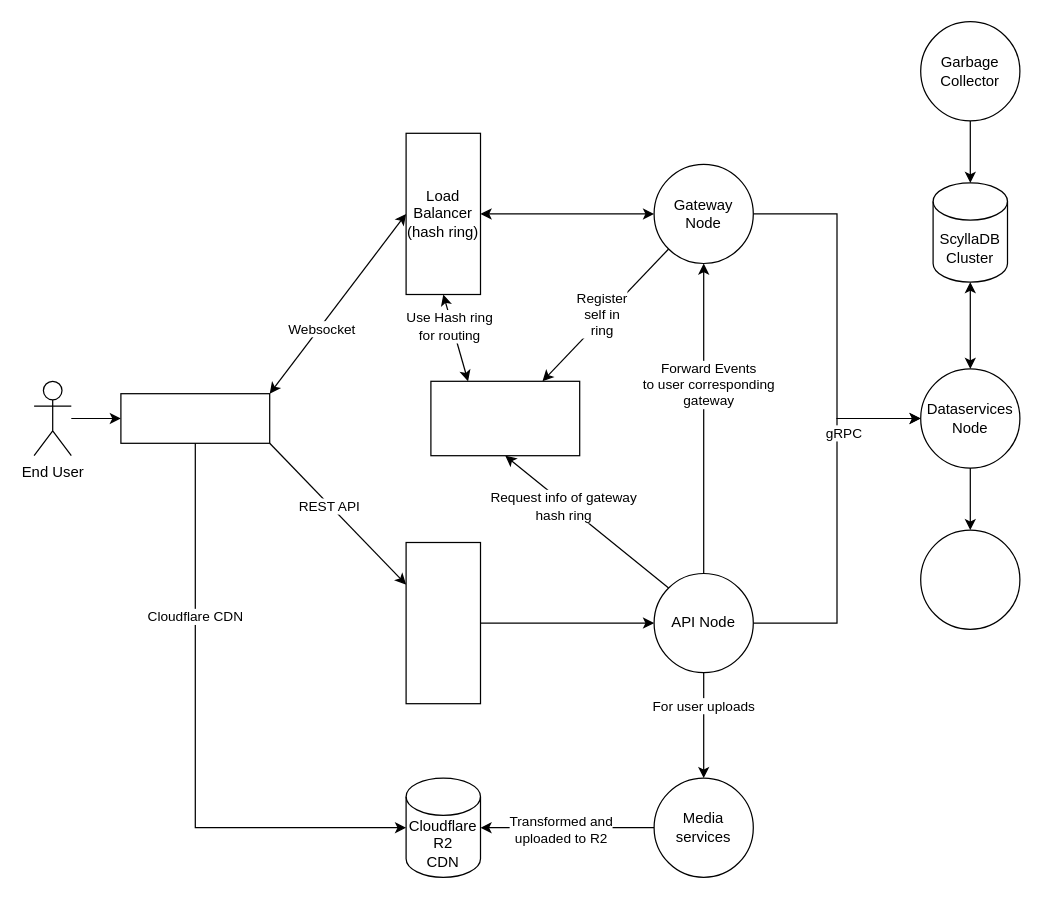
This 1042x899 diagram has some shape labels left out. Here are the shapes that lost their labels. From the top down, the centre of each, then its label:
pixel 195 417: WebApp Frontend client
pixel 505 418: Service Discovery manager
pixel 969 579: Elasticsearch Node
pixel 442 622: Load Balancer (random)
